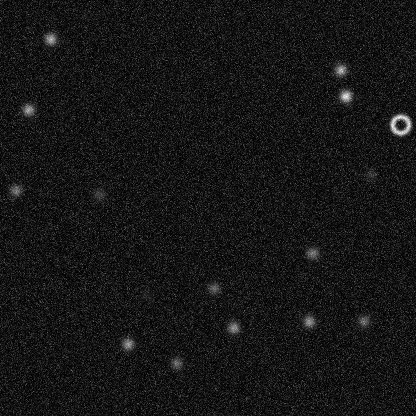Ring: (388, 112, 412, 136)
Spot: (332, 61, 348, 77), (304, 245, 320, 261), (300, 313, 316, 329), (362, 166, 378, 182), (91, 186, 107, 202), (168, 355, 184, 371), (138, 286, 154, 302), (205, 280, 221, 296), (337, 88, 353, 104), (42, 30, 58, 46), (225, 319, 241, 335), (119, 336, 135, 352), (20, 101, 36, 117), (355, 312, 371, 328), (7, 182, 23, 198)
